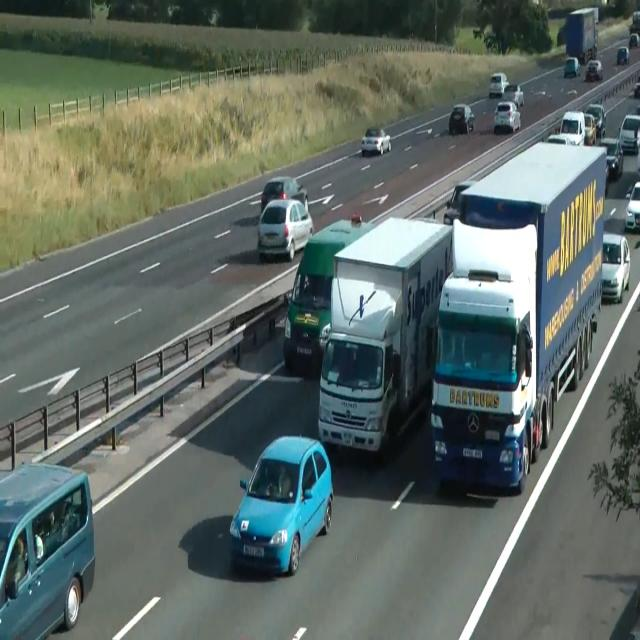bus: (229, 433, 333, 576), (601, 232, 631, 303), (443, 180, 475, 226), (493, 100, 521, 134), (361, 126, 391, 156), (448, 103, 474, 134), (503, 84, 524, 108), (489, 72, 509, 97), (582, 113, 596, 145), (585, 58, 603, 82), (546, 133, 574, 146), (564, 57, 580, 77), (628, 11, 640, 34), (616, 46, 630, 65), (628, 33, 640, 47), (625, 181, 633, 199), (634, 81, 640, 98)
car: (430, 217, 538, 493)
jeep: (0, 460, 96, 638), (282, 214, 375, 374), (257, 198, 313, 262), (260, 175, 308, 213), (547, 109, 585, 146), (599, 136, 623, 180), (618, 113, 640, 153), (586, 102, 606, 138), (625, 180, 639, 231)
minibus: (430, 140, 607, 494), (317, 214, 453, 460), (565, 6, 597, 64)
